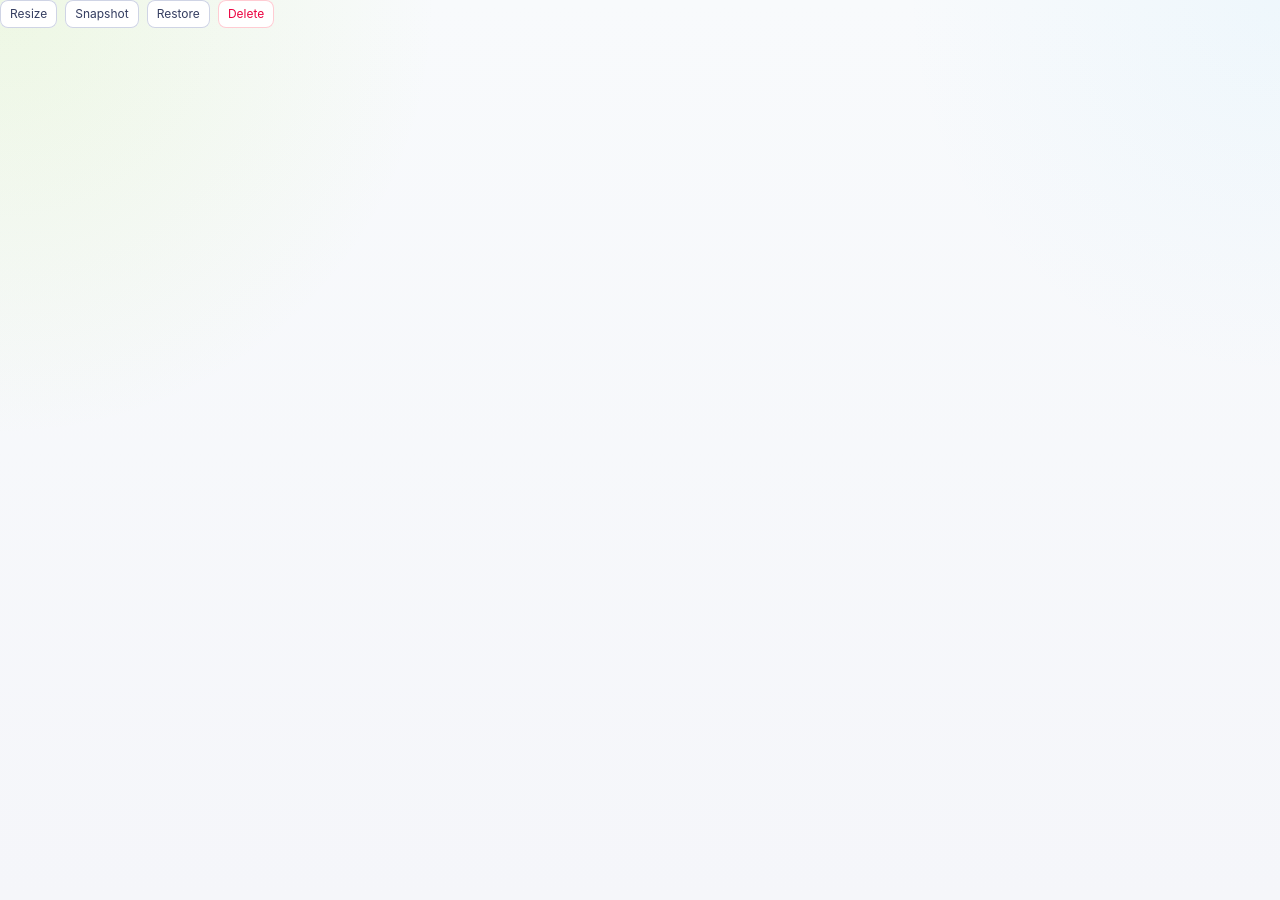
Scenario: customer-visible capability truth › restore offers only a ready snapshot replacement and never a blank new VM
Click the button "Restore".
click(178, 14)  # box [147,0,210,28]
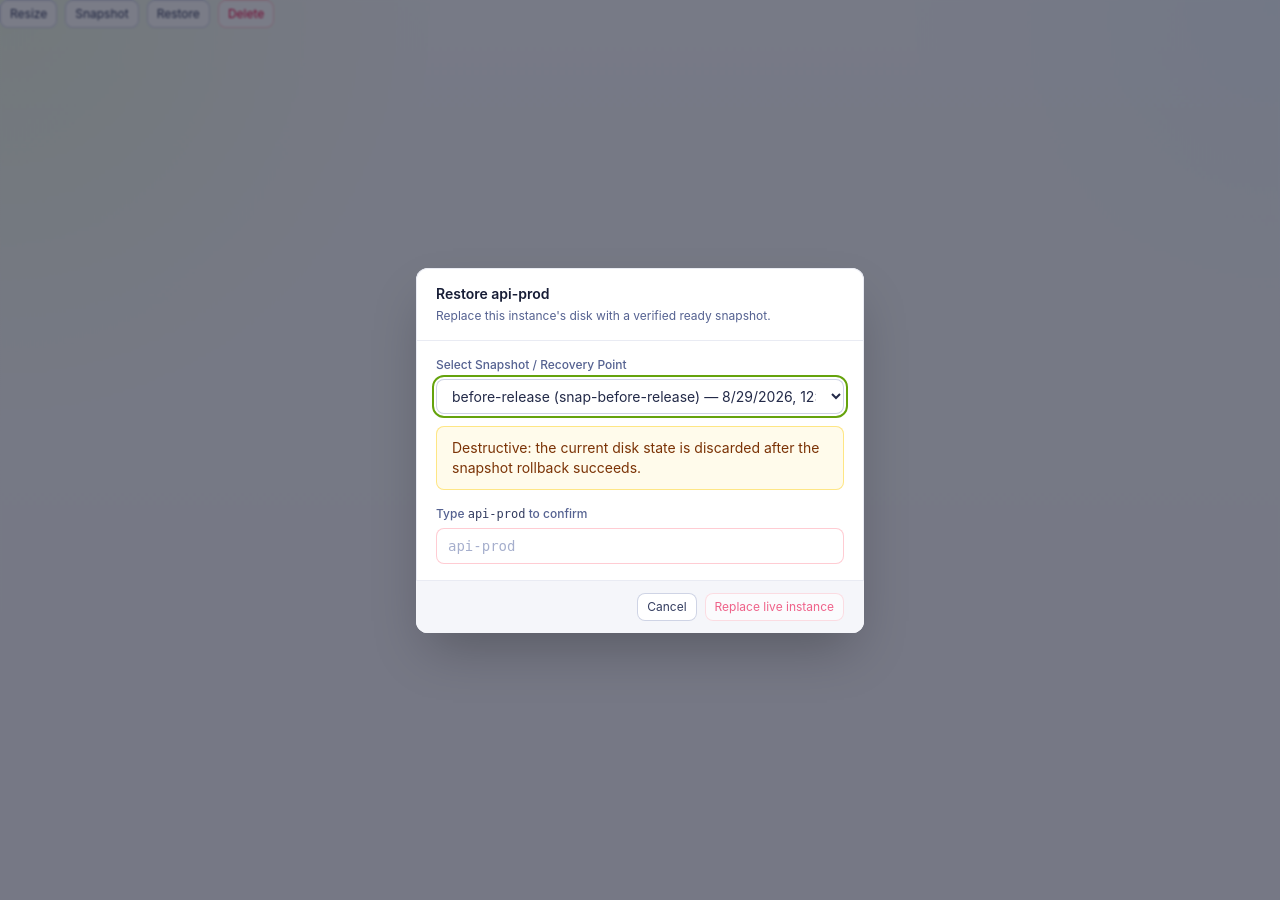
Expected: the button "Replace live instance" is disabled, [704,592,844,620]
